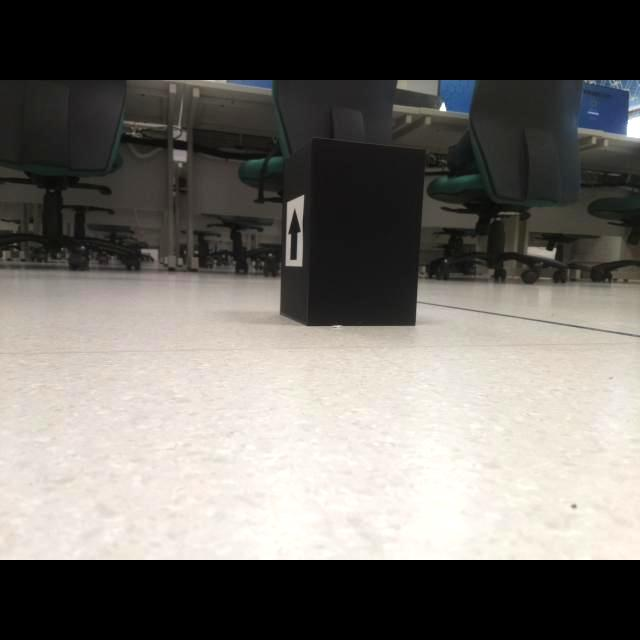UP: (287, 207, 302, 261)
